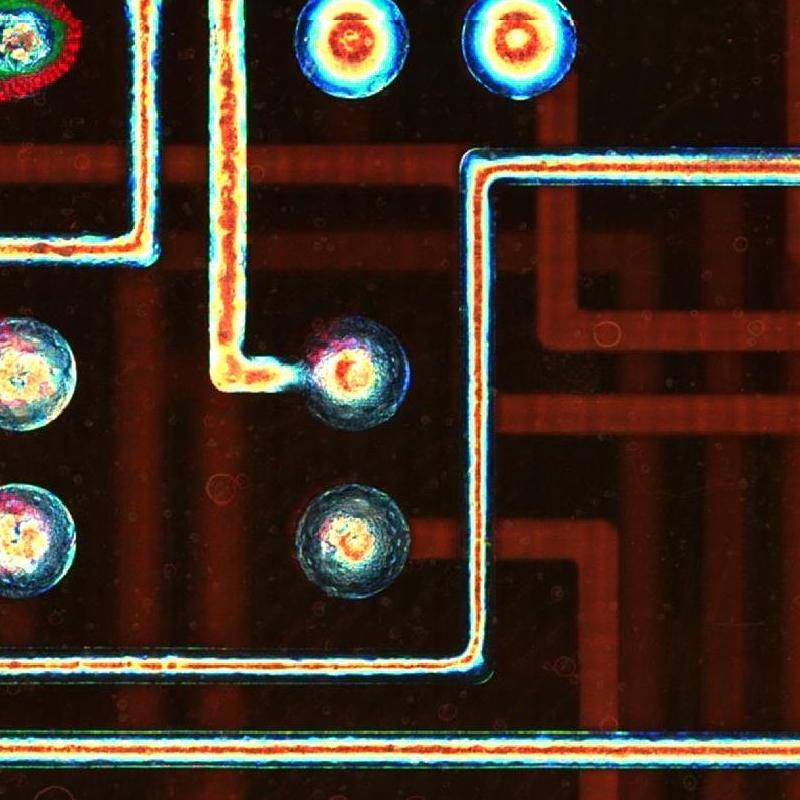bad: (285, 467, 425, 625), (289, 306, 424, 444), (449, 3, 599, 117), (278, 2, 425, 116), (1, 467, 95, 620), (1, 298, 90, 445)
